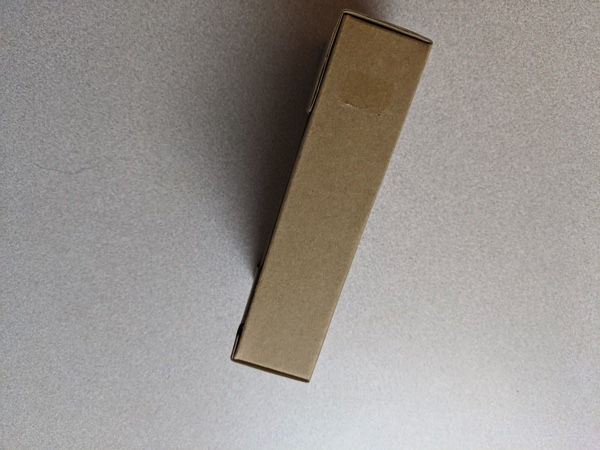cardboard: (202, 4, 443, 403)
